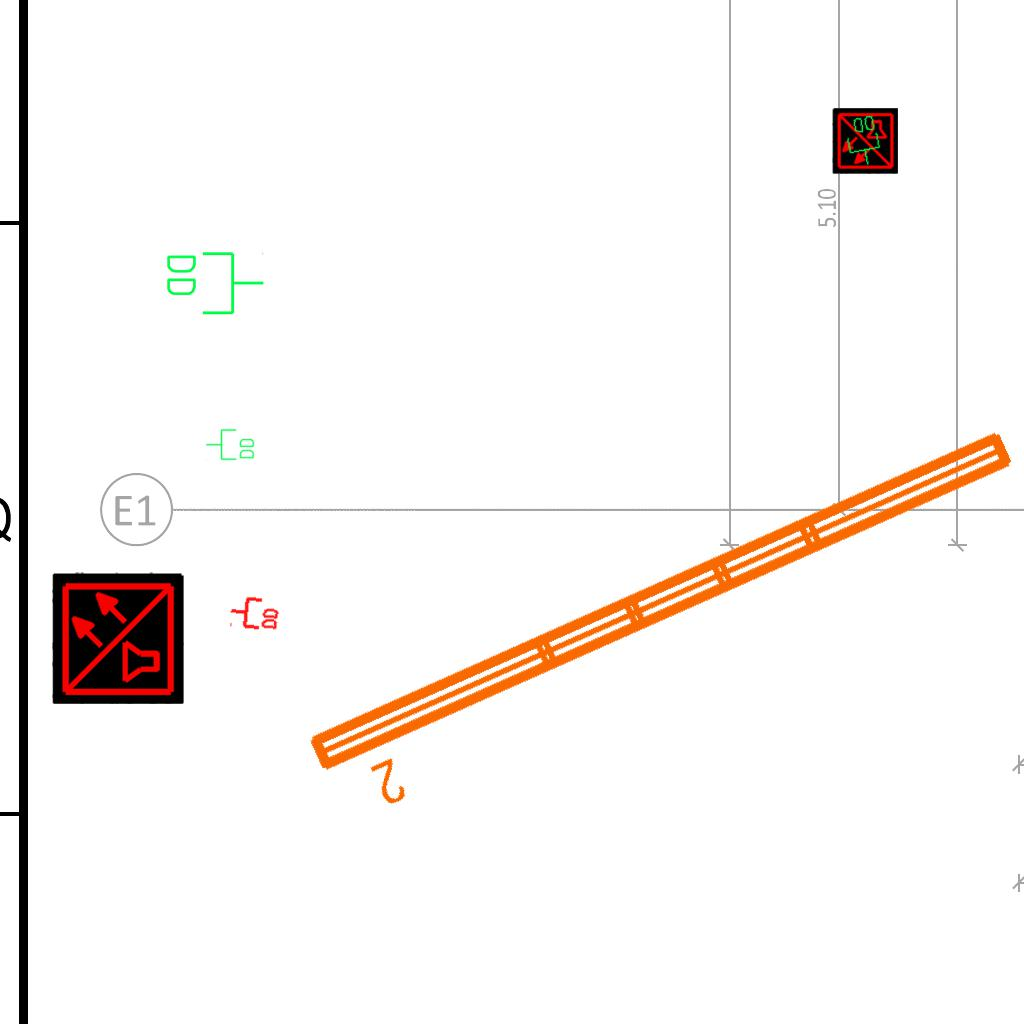Ambulanz_Pendelleuchte_LED: (295, 415, 1024, 833)
Datenanschluss_zweifach: (163, 248, 266, 317), (841, 112, 886, 170), (227, 592, 283, 633), (205, 428, 256, 462)
OKW_Multisensormelder_(Kombination_optischer_Rauch-Kahlenmonoxid_Waerme-Melder): (52, 572, 184, 704), (832, 108, 898, 174)
